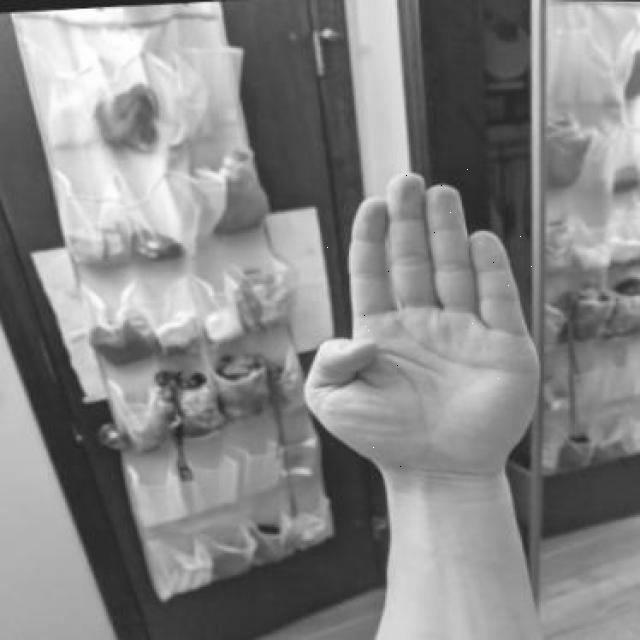B: (279, 156, 554, 489)
